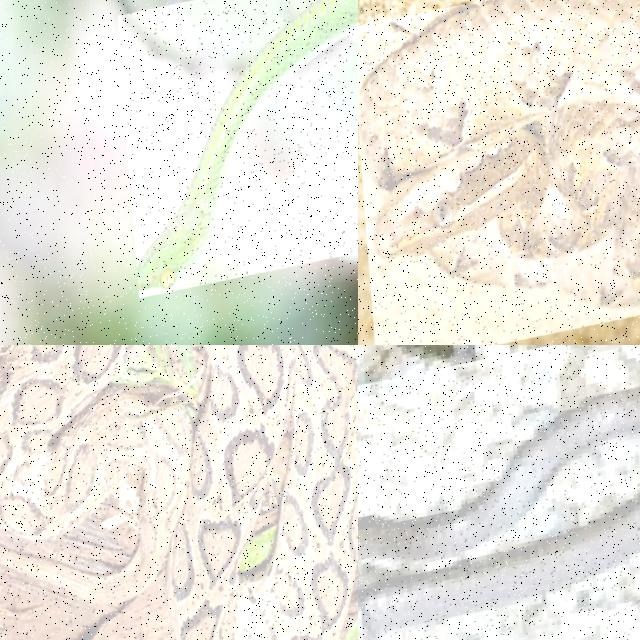Calloselasma rhodostoma: (360, 0, 639, 306)
Daboia siamensis: (0, 345, 357, 639)
Naja kaouthia: (358, 390, 639, 564)
Trimeresurus macrops: (138, 0, 357, 293)
snake: (0, 345, 357, 639), (360, 0, 639, 306), (138, 0, 357, 293), (358, 390, 639, 564)
